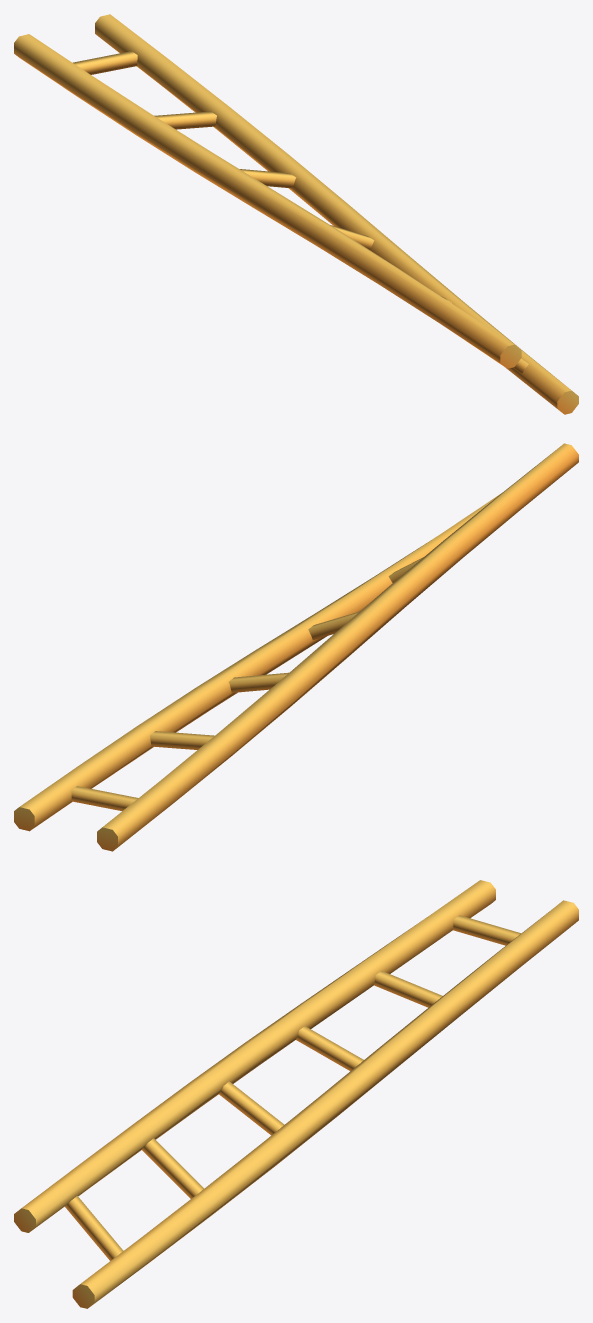
File: coaster-mouse-straight-skew-left.glb
The picture shows the model from 3 angles, top to bottom: view 1: azimuth 30°, elevation 25°; view 2: azimuth 150°, elevation 25°; view 3: azimuth 330°, elevation 25°; orthographic projection. The views are drawn at different scales.
Parts seen in each view (by area): view 1: coaster-mouse-straight-skew-left; view 2: coaster-mouse-straight-skew-left; view 3: coaster-mouse-straight-skew-left.
Part boxes in pixels (x1,y1,x2,y2): coaster-mouse-straight-skew-left: [14, 14, 578, 414]; coaster-mouse-straight-skew-left: [14, 443, 578, 851]; coaster-mouse-straight-skew-left: [14, 880, 578, 1308].
Size of the model in its own units: 0.5108 by 0.3887 by 4.
1 material, 1 textured.
